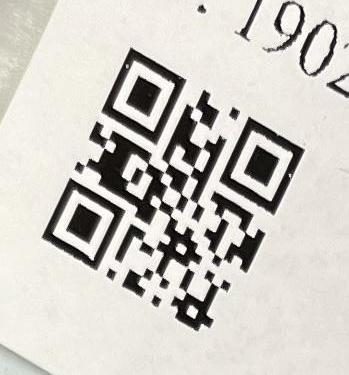qrcode: (43, 48, 306, 334)
